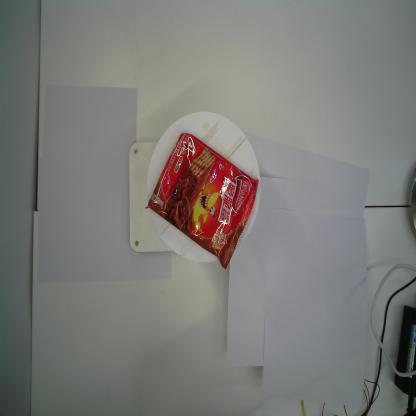Dessert: (145, 132, 259, 270)
